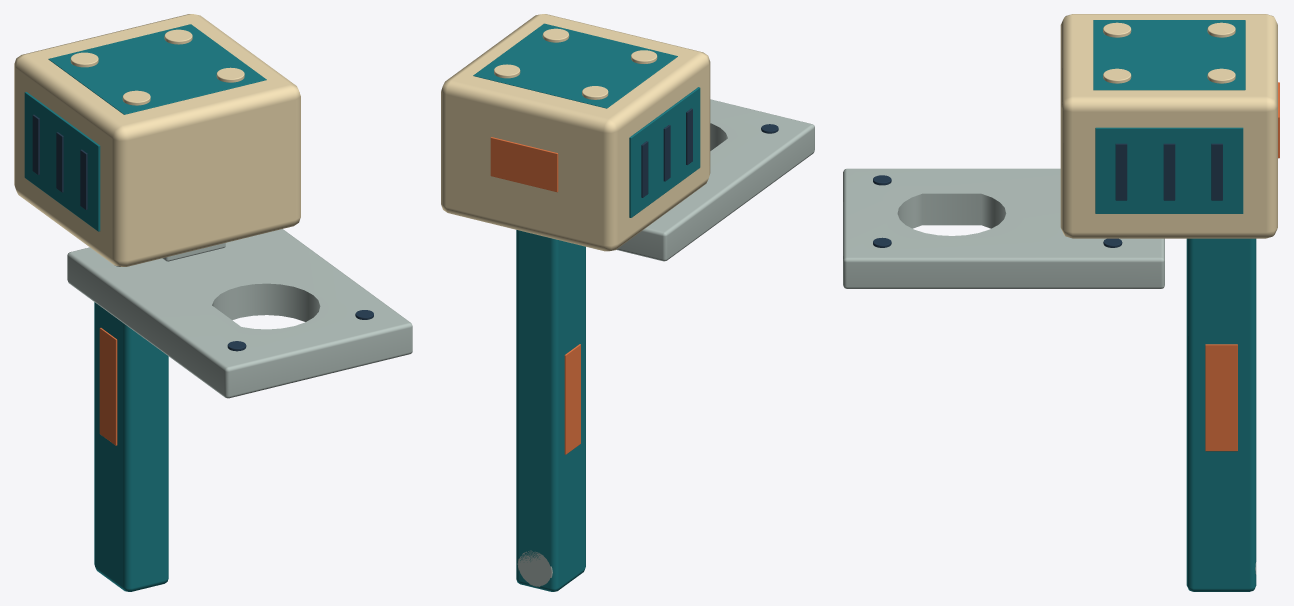
The model's file is engine-lod-0.glb.
The picture shows the model from 3 angles, left to right: view 1: azimuth 30°, elevation 25°; view 2: azimuth 150°, elevation 25°; view 3: azimuth 270°, elevation 25°; orthographic projection. The views are drawn at different scales.
Parts seen in each view (by area): view 1: engine_lod_0; view 2: engine_lod_0; view 3: engine_lod_0.
Boxes of the visible parts, left/top/right/bottom form: engine_lod_0: left=14, top=14, right=412, bottom=591; engine_lod_0: left=441, top=14, right=814, bottom=591; engine_lod_0: left=843, top=14, right=1279, bottom=591.
Size of the model in its own units: 1.05 by 2.7 by 2.01.
